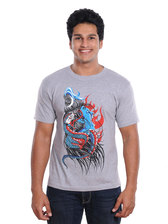clothoes: (36, 65, 138, 192)
